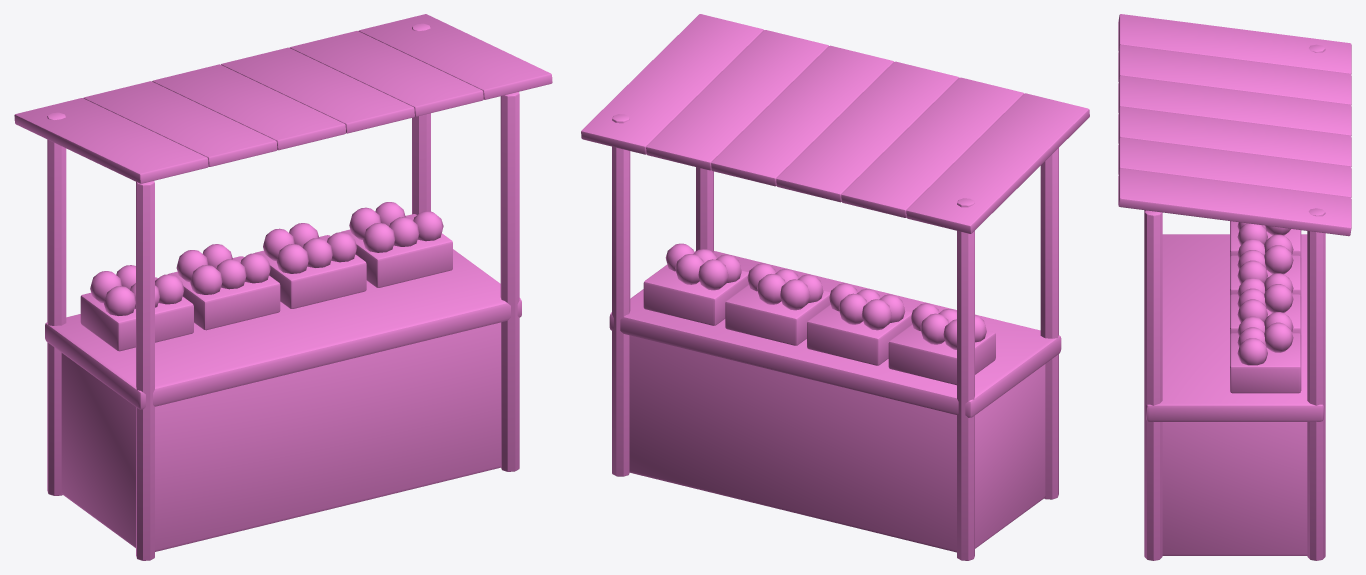
Rendered from OldTown_MarketStall.fbx.
3 renders of one model, left to right at view 1: azimuth 30°, elevation 25°; view 2: azimuth 150°, elevation 25°; view 3: azimuth 270°, elevation 25°, orthographic. The views are drawn at different scales.
Parts seen in each view (by area): view 1: Stall; view 2: Stall; view 3: Stall.
Boxes of the visible parts, <box> form: Stall: <box>14,14,552,560</box>; Stall: <box>581,14,1089,560</box>; Stall: <box>1118,14,1351,560</box>.
Size of the model in its own units: 8.6 by 8.01 by 4.57.
1 material, 1 textured.
